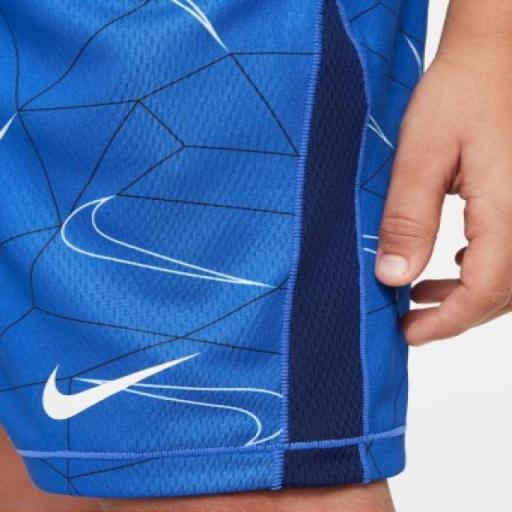Nike: (59, 193, 280, 302)
